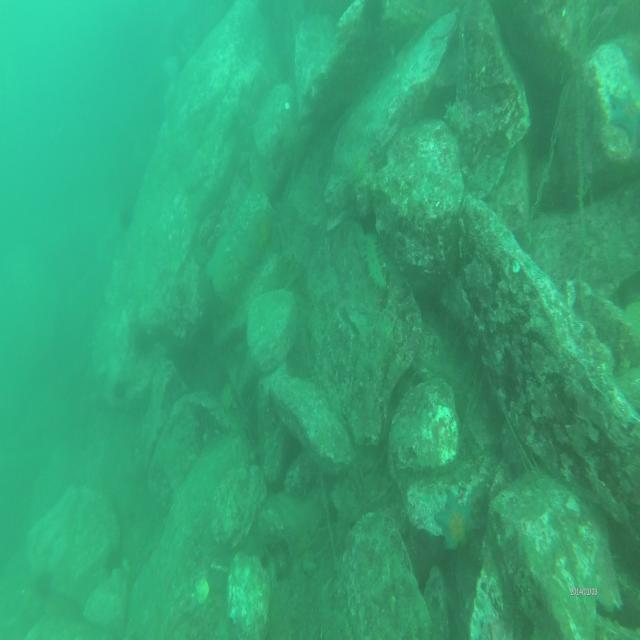echinus: (119, 202, 133, 226)
holothurian: (357, 226, 387, 295), (442, 100, 468, 138)
starfish: (430, 492, 471, 554), (606, 84, 640, 145)
